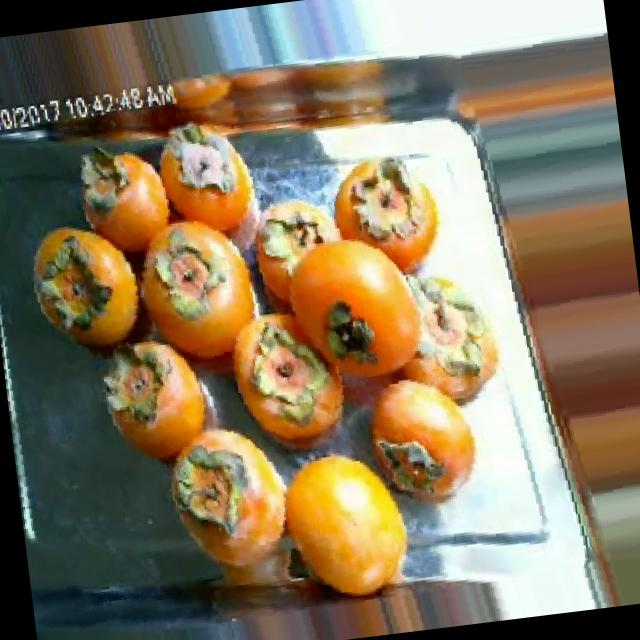Fruit: (258, 424, 432, 625), (82, 316, 232, 490), (11, 202, 153, 368)
